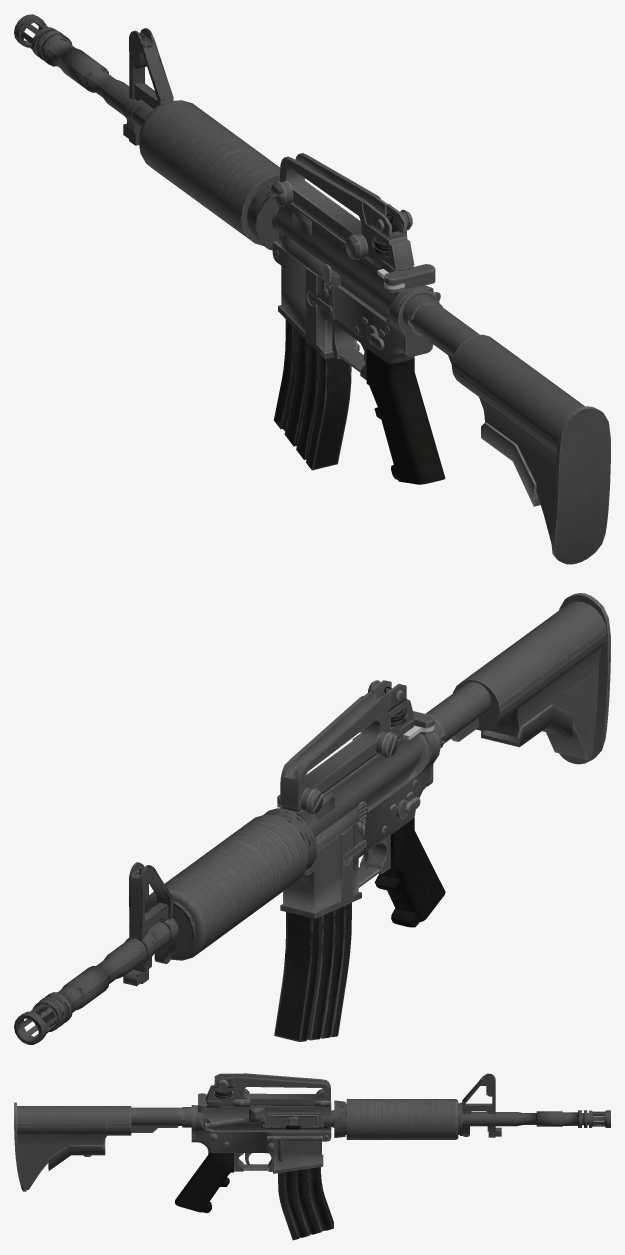
Rendered from rifle_m4.glb.
3 views of the same model, one above another, from view 1: azimuth 30°, elevation 25°; view 2: azimuth 150°, elevation 25°; view 3: azimuth 270°, elevation 25° (orthographic). The views are drawn at different scales.
Visible parts, largest first — view 1: weapon; view 2: weapon; view 3: weapon.
Part boxes in pixels (x1,y1,x2,y2): weapon: (14,14,610,564); weapon: (14,593,610,1044); weapon: (14,1073,610,1240).
Bounding box in the file's own units: 0.059 × 0.2515 × 0.84.
Materials: 2 (2 with a texture image).
